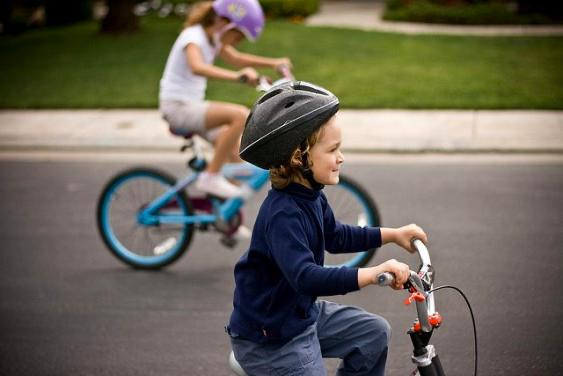With Helmet: (236, 69, 352, 190)
